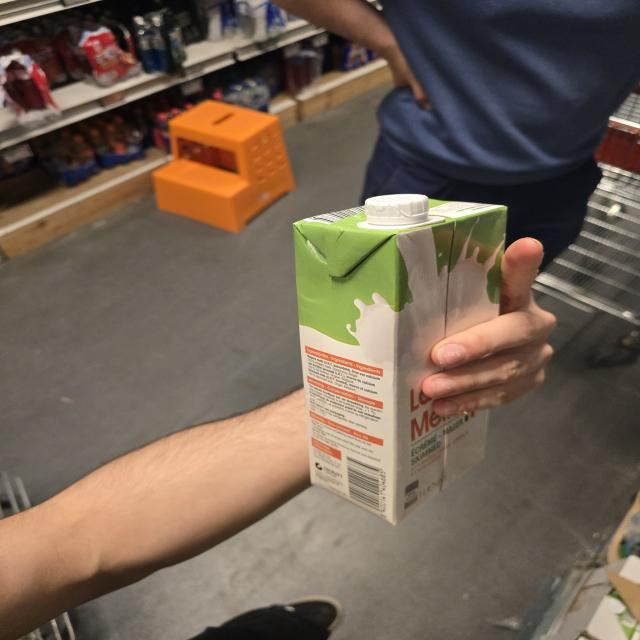Milk: (298, 192, 504, 524)
